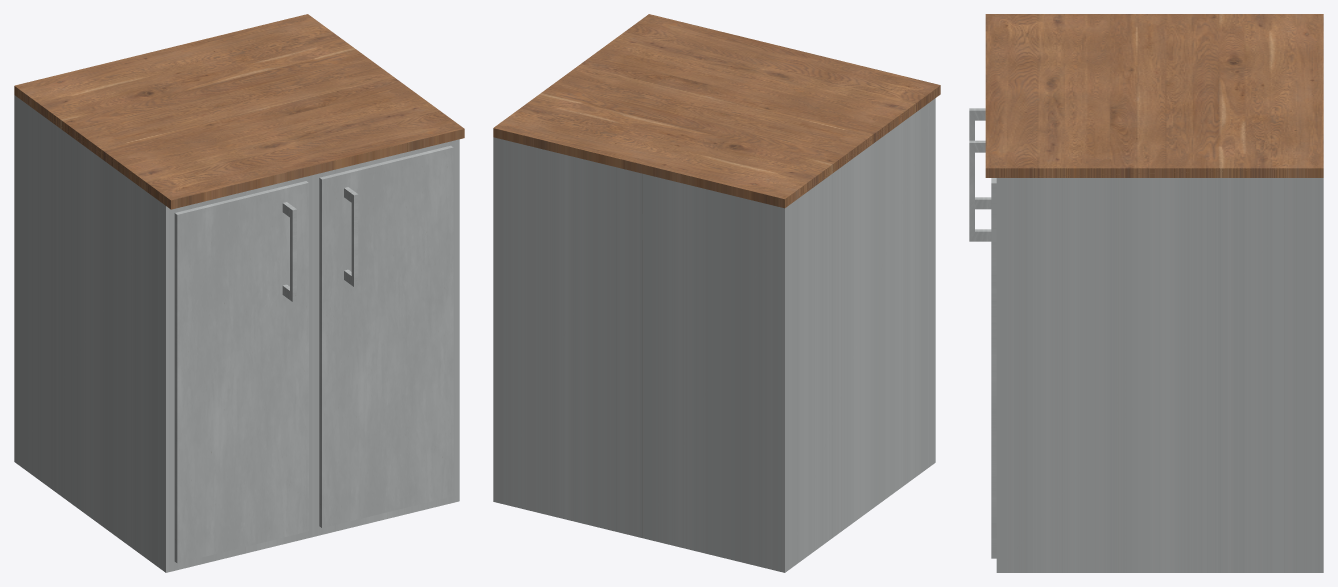
The model's file is GabinetePuertas.glb.
3 views of the same model, side by side, from view 1: azimuth 30°, elevation 25°; view 2: azimuth 150°, elevation 25°; view 3: azimuth 270°, elevation 25° (orthographic). The views are drawn at different scales.
Parts seen in each view (by area): view 1: DePuertas, TapaP, PuertaP_R, PuertaP_L, HandleP_R, HandleP_L; view 2: DePuertas, TapaP; view 3: DePuertas, TapaP, PuertaP_R, HandleP_R, HandleP_L.
Boxes of the visible parts, x1,y1,x2,y2 form: DePuertas: (14, 95, 459, 572); TapaP: (14, 14, 464, 209); PuertaP_R: (319, 145, 453, 527); PuertaP_L: (174, 181, 308, 563); HandleP_R: (344, 187, 358, 286); HandleP_L: (282, 202, 296, 301); DePuertas: (493, 98, 935, 572); TapaP: (493, 14, 940, 208); DePuertas: (996, 178, 1323, 572); TapaP: (985, 14, 1323, 177); PuertaP_R: (991, 178, 996, 558); HandleP_R: (969, 140, 991, 241); HandleP_L: (969, 108, 991, 209).
Size of the model in its own units: 0.67 by 0.82 by 0.65.
Materials: 3 (3 with a texture image).
